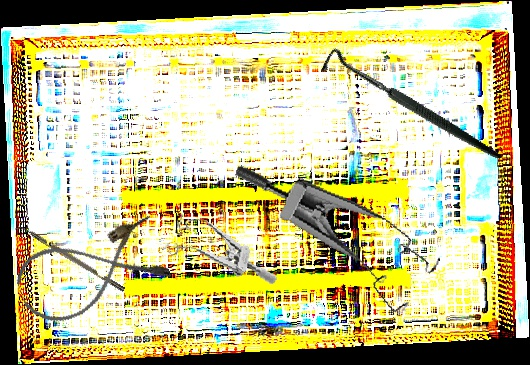Cannula: (9, 212, 174, 332)
Chopper: (13, 221, 126, 298)
Hook Surgical: (313, 2, 504, 216)
Speculum: (212, 162, 451, 321), (159, 211, 286, 285)
